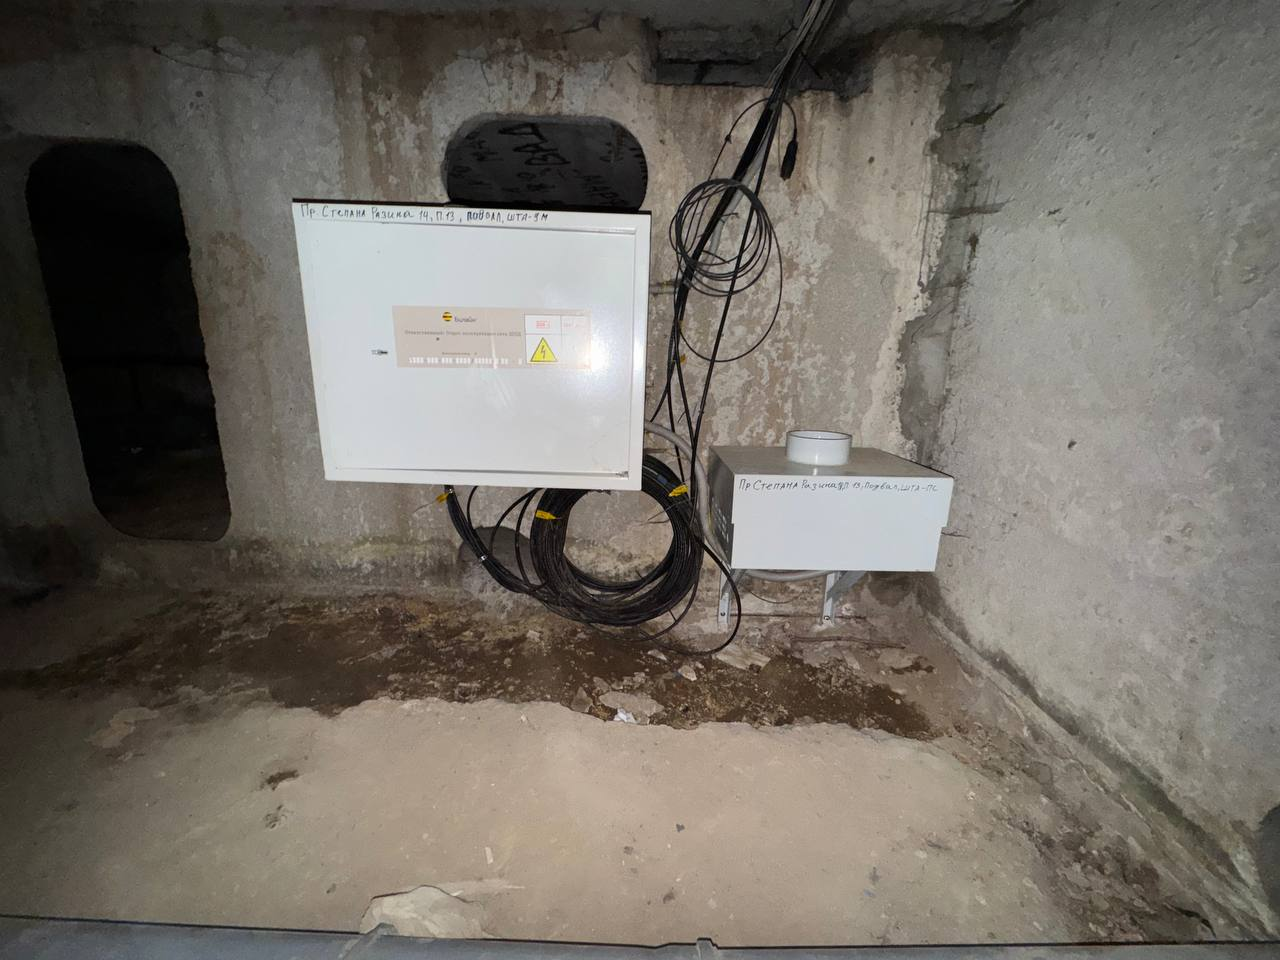shta-9m: (283, 192, 661, 490)
shta-ps: (703, 428, 961, 579)
